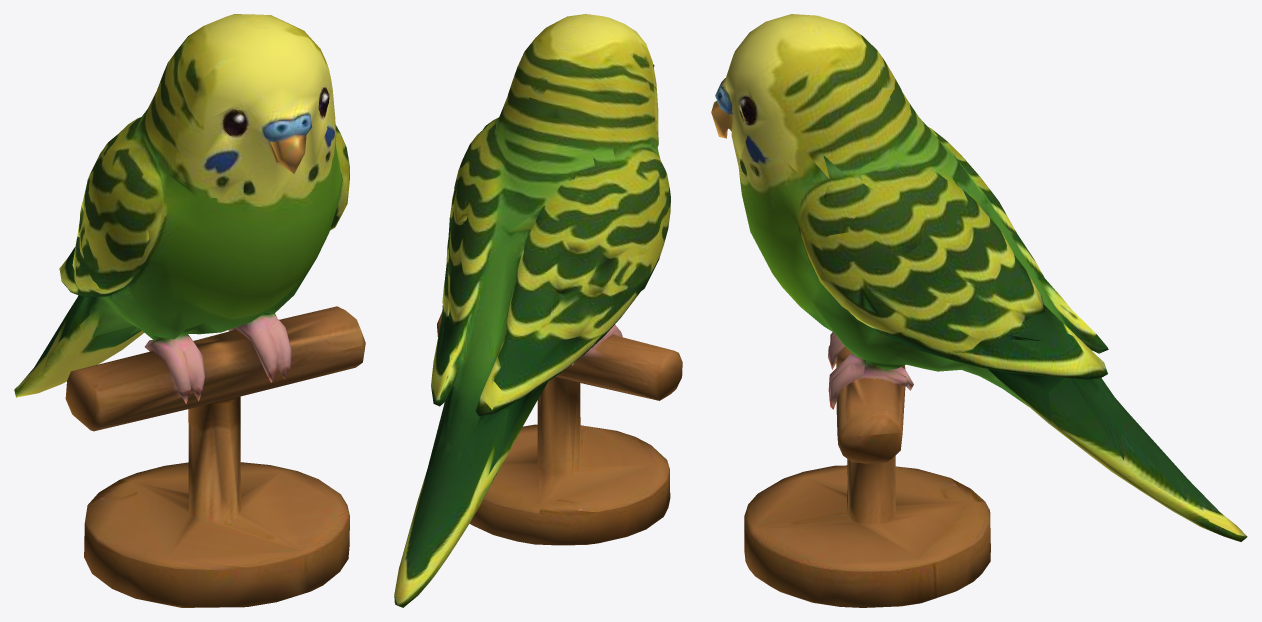
File: budgie.glb
3 renders of one model, left to right at view 1: azimuth 30°, elevation 25°; view 2: azimuth 150°, elevation 25°; view 3: azimuth 270°, elevation 25°, orthographic. The views are drawn at different scales.
Parts seen in each view (by area): view 1: model; view 2: model; view 3: model.
Part boxes in pixels (<box>): model: <box>14,14,365,607</box>; model: <box>394,14,682,607</box>; model: <box>711,14,1247,607</box>.
Bounding box in the file's own units: 0.96 × 1.9 × 1.73.
1 material, 1 textured.
